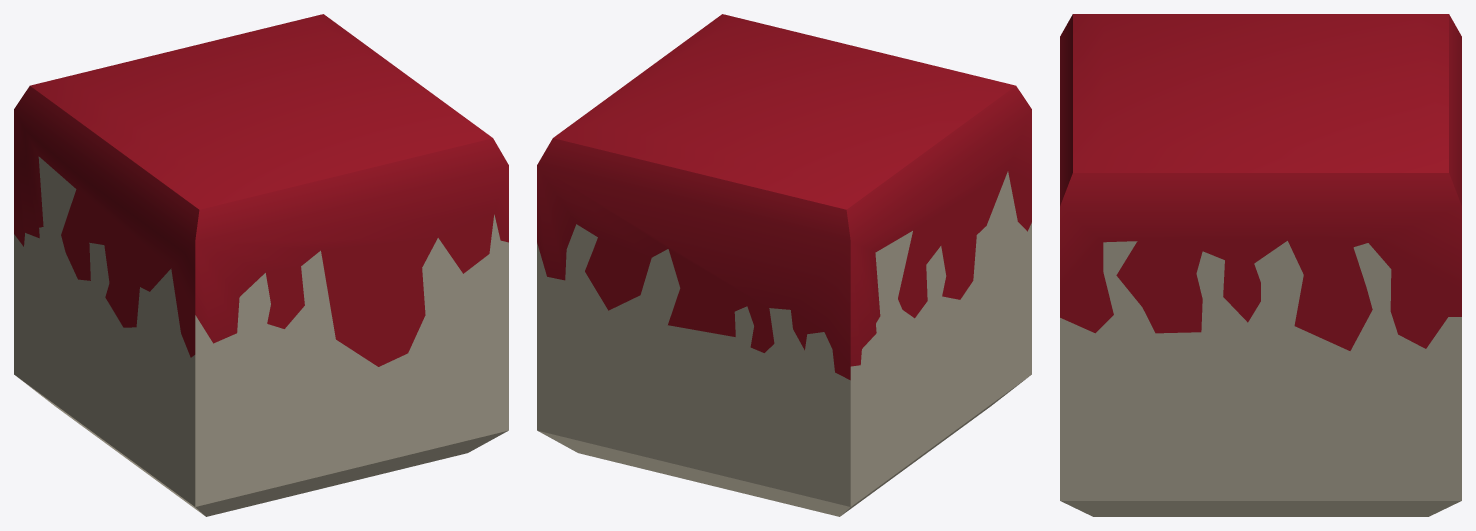
The model's file is End_Cube.fbx.
3 views of the same model, side by side, from view 1: azimuth 30°, elevation 25°; view 2: azimuth 150°, elevation 25°; view 3: azimuth 270°, elevation 25° (orthographic). The views are drawn at different scales.
Visible parts, largest first — view 1: Cube.071; view 2: Cube.071; view 3: Cube.071.
Boxes of the visible parts, left/top/right/bottom form: Cube.071: left=14, top=14, right=508, bottom=516; Cube.071: left=537, top=14, right=1031, bottom=516; Cube.071: left=1060, top=14, right=1461, bottom=516.
Bounding box in the file's own units: 100 × 100 × 100.
